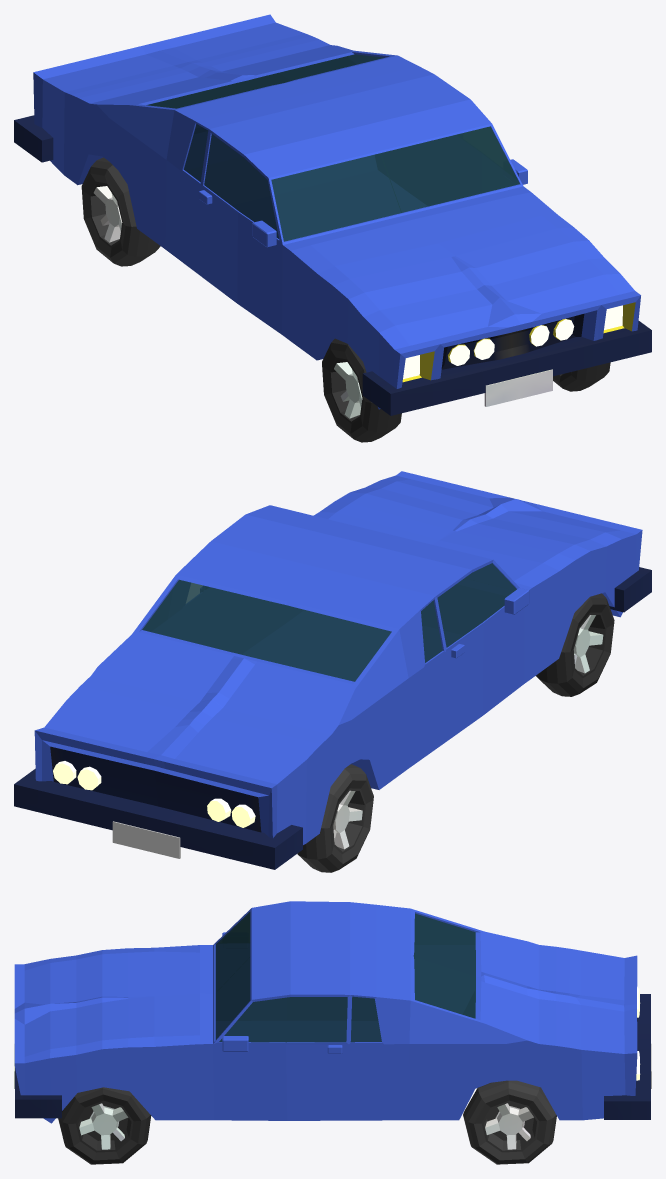
The model's file is STA_Project_Car_1_V1.fbx.
The picture shows the model from 3 angles, top to bottom: view 1: azimuth 30°, elevation 25°; view 2: azimuth 150°, elevation 25°; view 3: azimuth 270°, elevation 25°; orthographic projection. The views are drawn at different scales.
Parts seen in each view (by area): view 1: CarBody, CarFrontBlocker, CarWheelFront, CarWheelBack, CarNumberPlateFront, CarBackBlocker; view 2: CarBody, CarBackBlocker, CarWheelBack, CarWheelFront, CarNumberPlateBack, CarFrontBlocker, CarBackLight2, CarBackLight1; view 3: CarBody, CarWheelBack, CarWheelFront, CarBackBlocker, CarFrontBlocker.
Boxes of the visible parts, x1,y1,x2,y2 form: CarBody: (33,14,640,409); CarFrontBlocker: (362,321,651,415); CarWheelFront: (322,338,610,442); CarWheelBack: (81,157,160,266); CarNumberPlateFront: (484,369,552,406); CarBackBlocker: (14,115,53,162); CarBody: (34,471,642,844); CarBackBlocker: (14,768,302,869); CarWheelBack: (297,764,373,872); CarWheelFront: (536,593,614,696); CarNumberPlateBack: (112,821,180,858); CarFrontBlocker: (609,567,651,612); CarBackLight2: (77,766,231,821); CarBackLight1: (53,761,255,827); CarBody: (14,901,637,1123); CarWheelBack: (463,1080,556,1164); CarWheelFront: (58,1087,151,1164); CarBackBlocker: (604,994,650,1119); CarFrontBlocker: (15,1068,61,1118).
Bounding box in the file's own units: 149 × 110 × 373.
